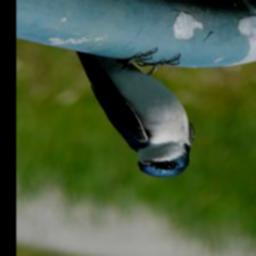Swallow: (75, 47, 198, 180)
